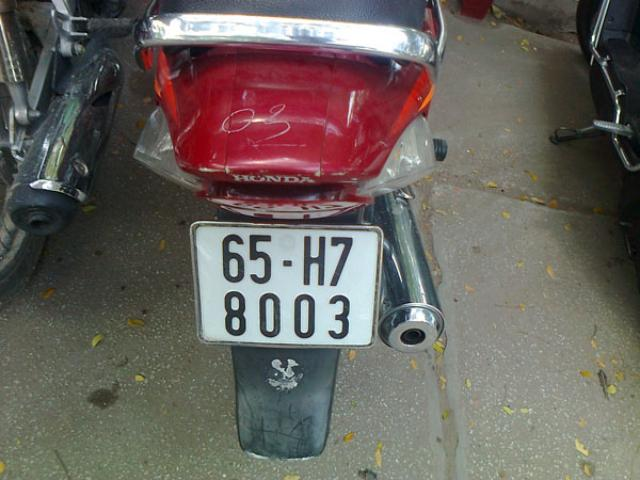plate: (191, 222, 383, 346)
